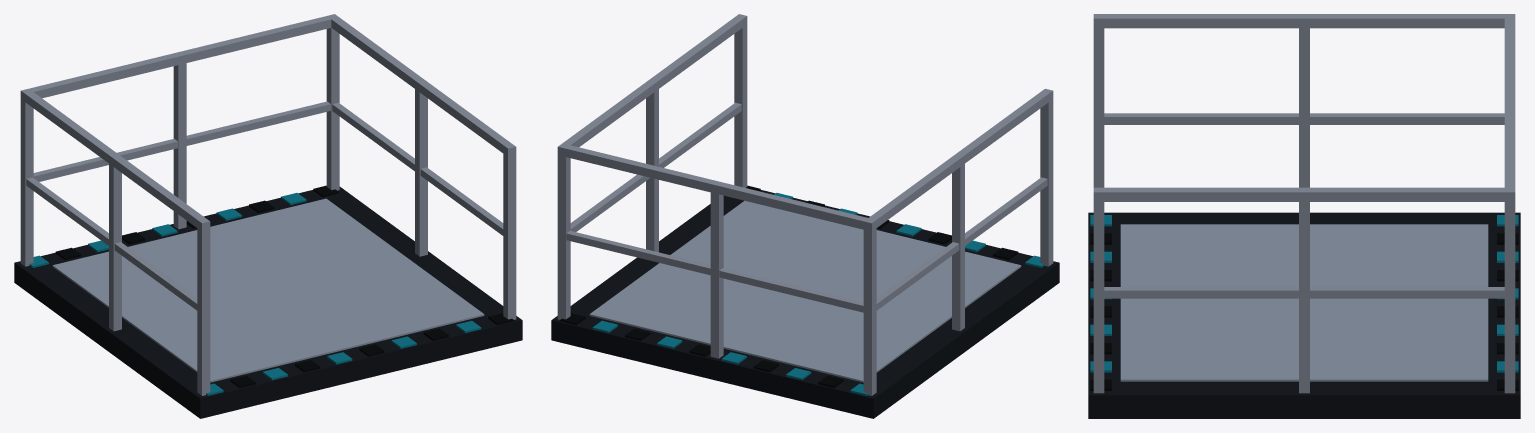
Rendered from SM_Lift_Anim.glb.
3 views of the same model, side by side, from view 1: azimuth 30°, elevation 25°; view 2: azimuth 150°, elevation 25°; view 3: azimuth 270°, elevation 25° (orthographic). The views are drawn at different scales.
Parts seen in each view (by area): view 1: Lift_Platform-col; view 2: Lift_Platform-col; view 3: Lift_Platform-col.
Boxes of the visible parts, box(x1,y1,x2,y2) form: Lift_Platform-col: box(14, 14, 522, 418); Lift_Platform-col: box(551, 14, 1059, 418); Lift_Platform-col: box(1088, 14, 1520, 418).
Size of the model in its own units: 2 by 1.14 by 2.
